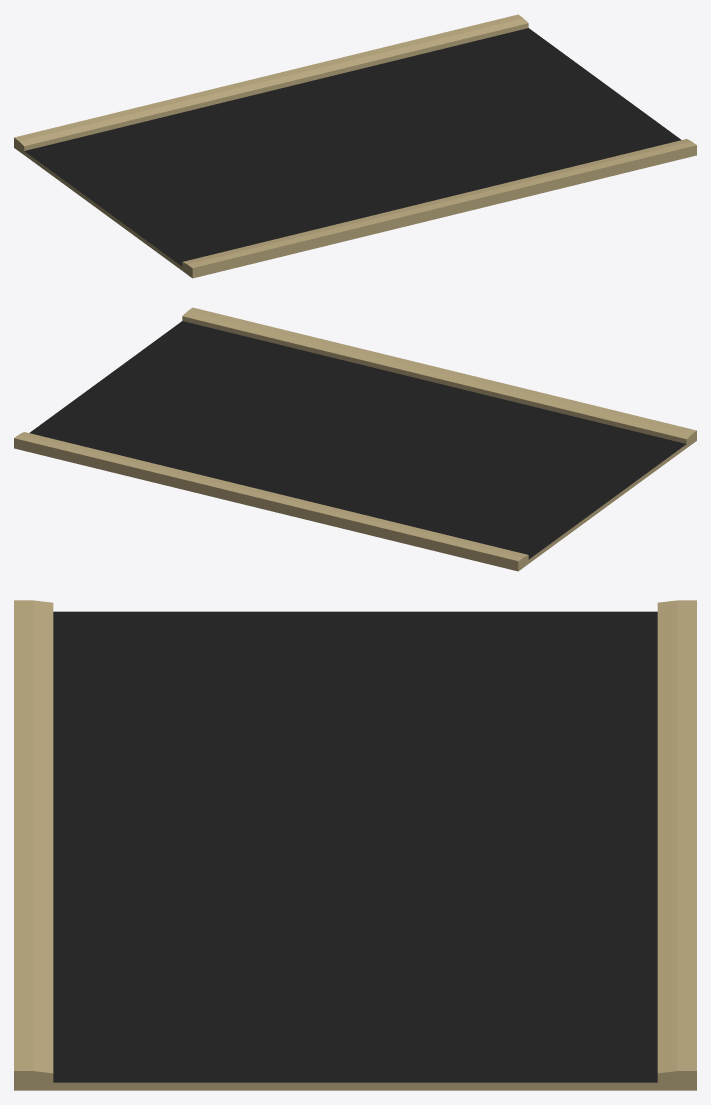
File: Road.fbx
3 views of the same model, one above another, from view 1: azimuth 30°, elevation 25°; view 2: azimuth 150°, elevation 25°; view 3: azimuth 270°, elevation 25° (orthographic). The views are drawn at different scales.
Parts seen in each view (by area): view 1: Cube; view 2: Cube; view 3: Cube.
Part boxes in pixels (left/top/right/bottom): Cube: left=14, top=14, right=696, bottom=278; Cube: left=14, top=307, right=696, bottom=571; Cube: left=14, top=600, right=696, bottom=1090.
Bounding box in the file's own units: 2962 × 57.71 × 1816.
